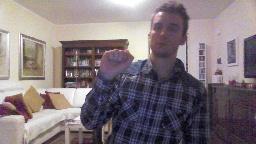Pugno: (97, 47, 135, 80)
